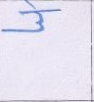e_matra: (19, 0, 38, 10)
